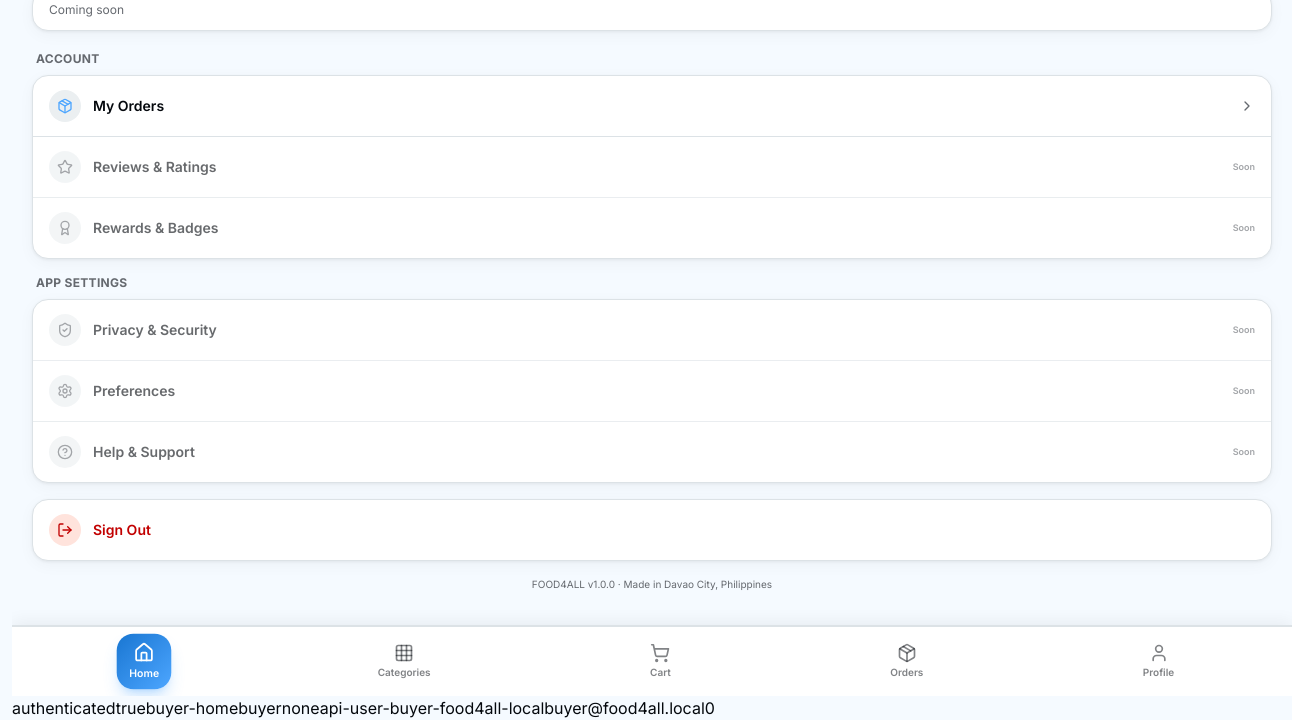
Test: rendered profile logout buttons › renders buyer logout and clears shared auth state
This screenshot has width=1292, height=720.
(page scrolled)
Expected: the text with test id "selected-role" reads "buyer", x1=238 y1=698 x2=282 y2=718
What coordinates should you click on to do the following:
click the button "Sign Out"
I would click on:
 (65, 530)
Its box is x1=32 y1=499 x2=1272 y2=561.
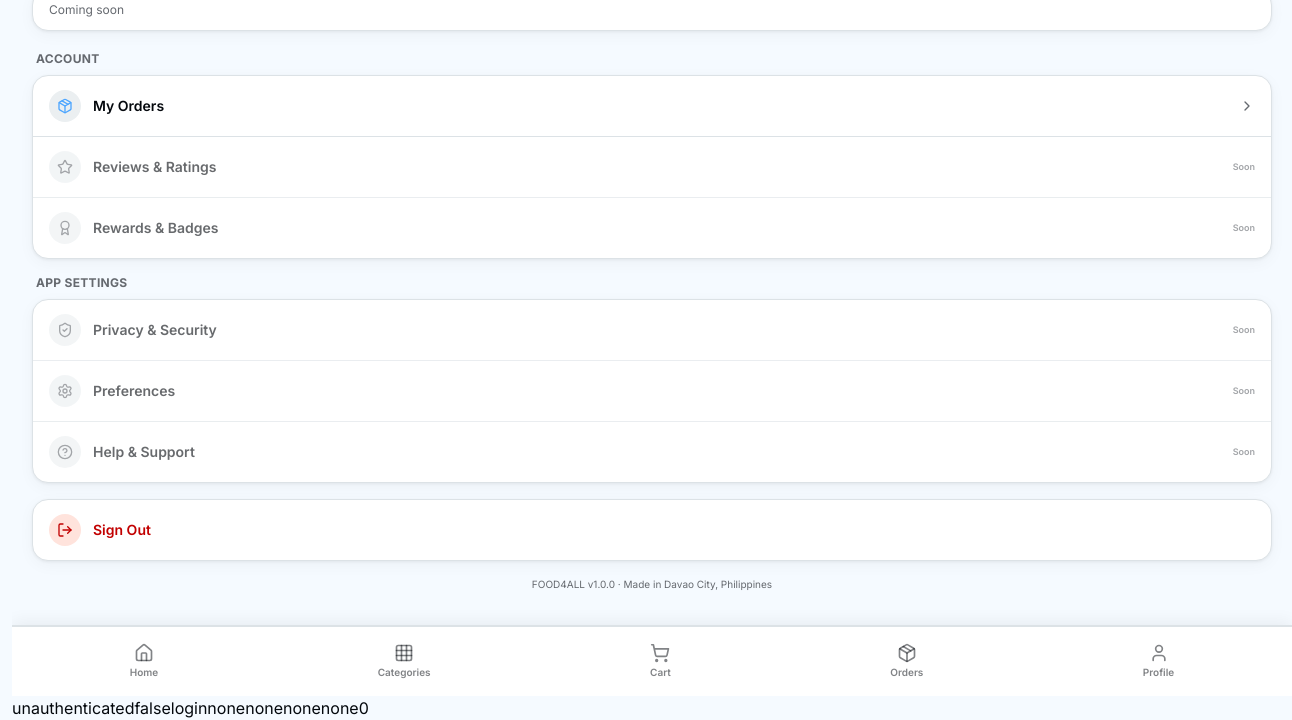
Result: the text with test id "authenticated" reads "false" at x1=134 y1=698 x2=171 y2=718
Result: the text with test id "auth-status" reads "unauthenticated" at x1=12 y1=698 x2=134 y2=718
Result: the text with test id "selected-role" reads "none" at x1=207 y1=698 x2=245 y2=718
